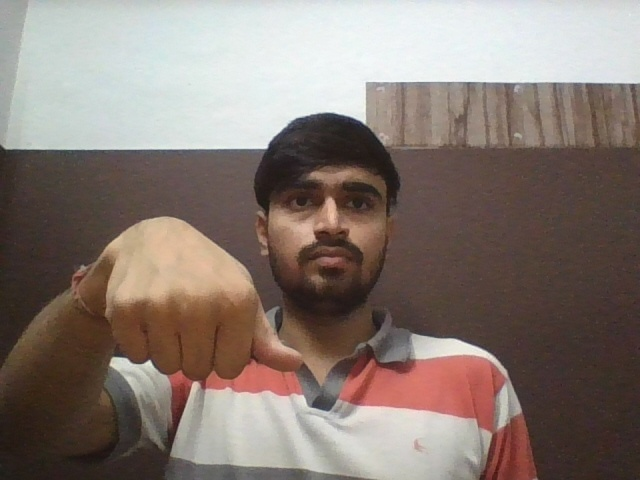Yes: (104, 216, 303, 380)
